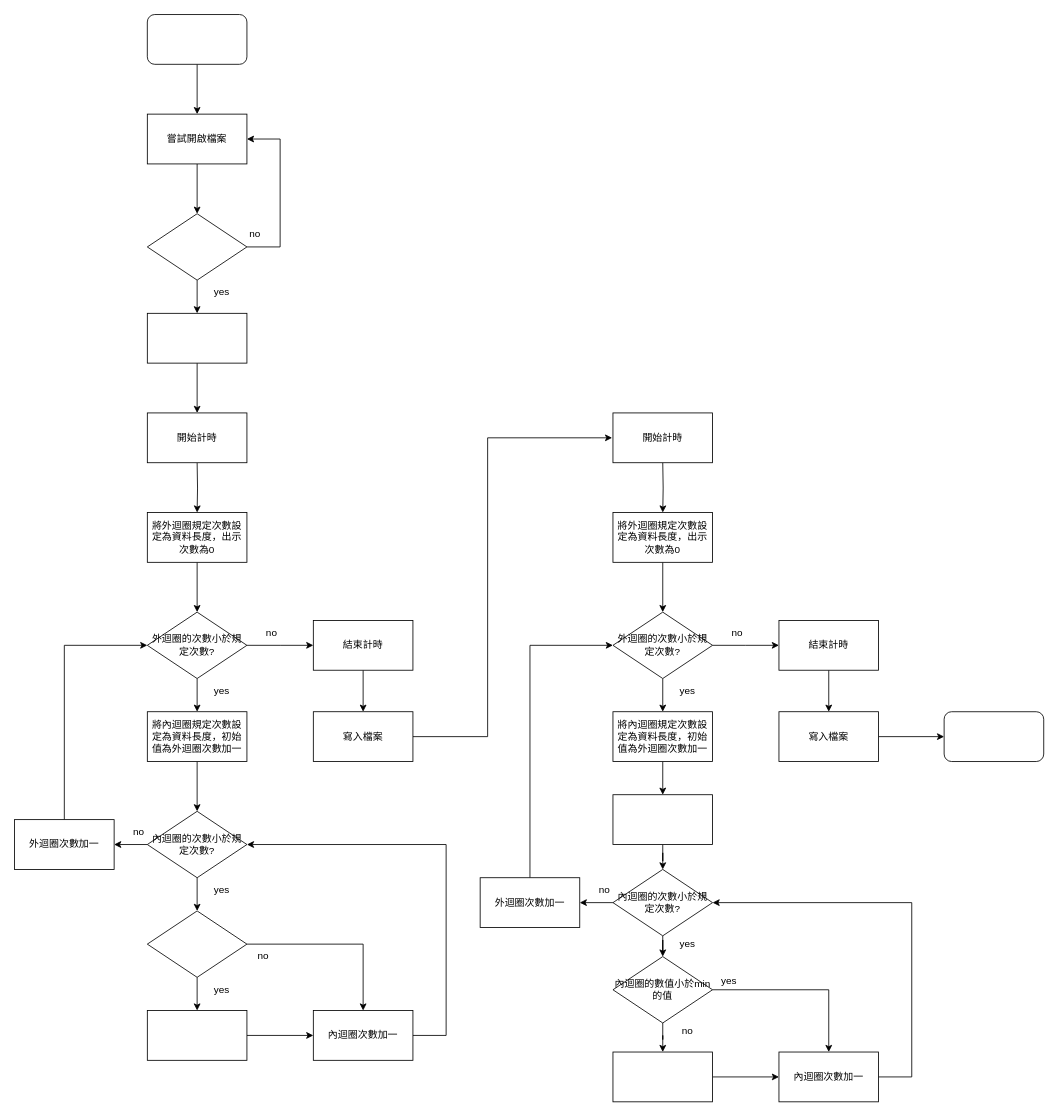
This 1058x1116 diagram has some shape labels left out. The shapes that lost their labels are listed below. From the top down, each one's centre as x and y in pixels, then its label:
At point (196, 39): "開始".
At point (196, 246): "檔案是否開啟".
At point (196, 337): "讀取檔案並存去在vector裡面".
At point (993, 736): "結束'".
At point (662, 819): "將min設定為外迴圈的位置".
At point (196, 943): "外迴圈所指的資料大於內迴圈所指的資料".
At point (196, 1035): "兩筆資料交換位置".
At point (662, 1076): "min更新".
